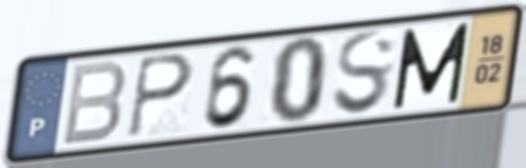0: (264, 35, 332, 127)
6: (200, 43, 260, 133)
B: (59, 58, 129, 149)
M: (390, 19, 473, 113)
P: (125, 51, 196, 142)
S: (330, 27, 399, 119)
